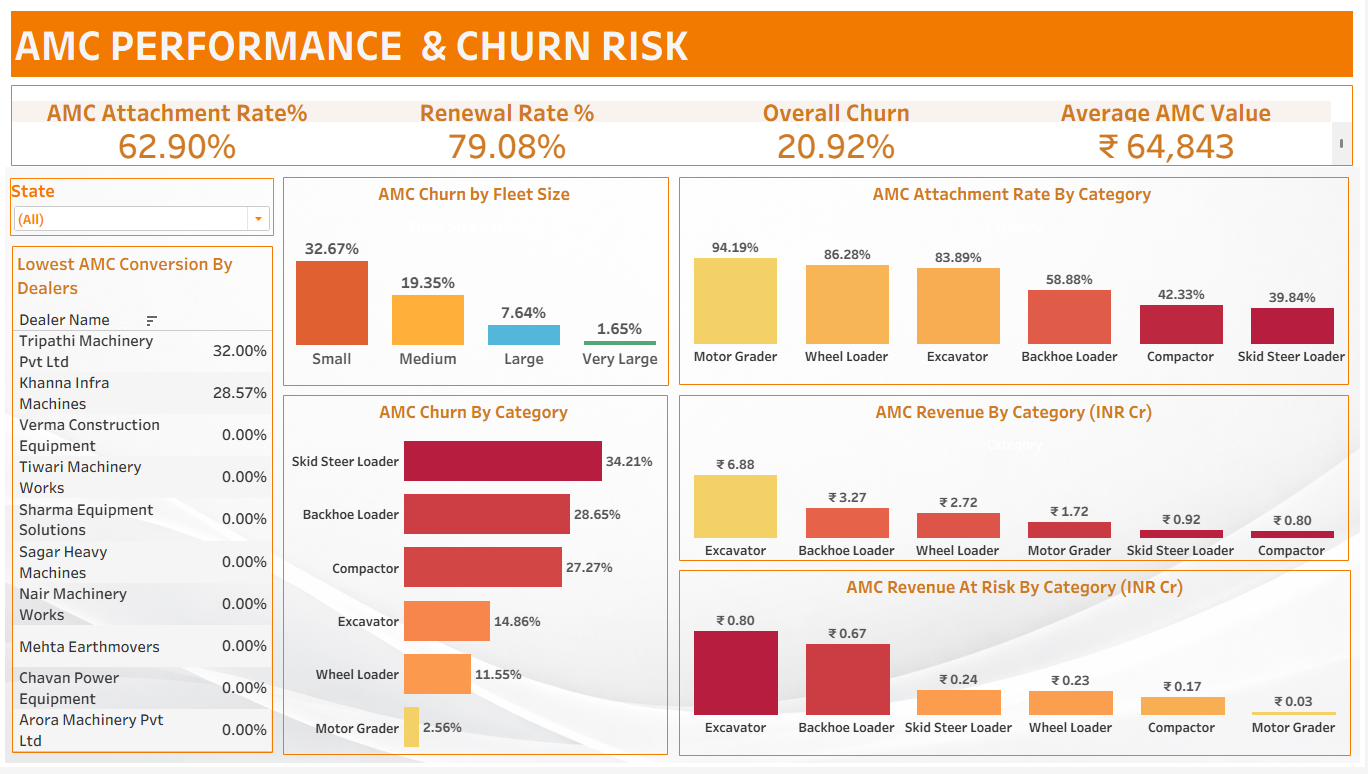

The dashboard page shown, as its layout file describes it:
{"tool":"tableau","page":{"name":"DASHBOARD 2","canvas":[1366,768],"ordinal":0},"visuals":[{"type":"text","box":[8,8,1350,74]},{"type":"image","param":"Image/ChatGPT Image Mar 21, 2026, 10_17_25 PM.jpg","box":[1283,17,64,56]},{"type":"worksheet","title":"KPIs 2","mark":"Automatic","box":[8,82,1350,89]},{"type":"image","param":"Image/white background.png","box":[6,168,1355,596]},{"type":"worksheet","title":"AMC Churn by Fleet Size","mark":"Automatic","rows":["Calculation_0198788526399491"],"cols":["fleet_size_category"],"box":[284,178,386,209]},{"type":"worksheet","title":"AMC Attachment Rate By Category","mark":"Bar","rows":["Calculation_0198788525764610"],"cols":["category"],"box":[680,178,670,208]},{"type":"filter","title":"AMC Attachment Rate By Category","param":"[federated.0mla3y500qfd4d14qhf7i0c152dx].[none:state (dealers):nk]","box":[11,179,264,58]},{"type":"worksheet","title":"Lowest AMC Conversion By Dealers","mark":"Automatic","rows":["dealer_name"],"box":[13,247,261,507]},{"type":"worksheet","title":"AMC Churn By Category","mark":"Bar","rows":["category"],"cols":["Calculation_0198788526399491"],"box":[284,396,385,360]},{"type":"worksheet","title":"AMC Revenue By Category","mark":"Automatic","rows":["Calculation_0198788551446533"],"cols":["category"],"box":[680,396,670,166]},{"type":"worksheet","title":"AMC Revenue At Risk By Category","mark":"Automatic","rows":["Calculation_0198788518055937"],"cols":["category"],"box":[680,571,672,186]}]}

Visuals, with their boxes in screenshot pixels (x1, y1, x2, y2), scaled from the page's 1366x768 canvas onto the 1368x774 screenshot:
text: <region>8, 8, 1360, 83</region>
image: <region>1285, 17, 1349, 74</region>
"KPIs 2" worksheet: <region>8, 83, 1360, 172</region>
image: <region>6, 169, 1363, 770</region>
"AMC Churn by Fleet Size" worksheet: <region>284, 179, 671, 390</region>
"AMC Attachment Rate By Category" worksheet (Bar marks): <region>681, 179, 1352, 389</region>
"AMC Attachment Rate By Category" filter: <region>11, 180, 275, 239</region>
"Lowest AMC Conversion By Dealers" worksheet: <region>13, 249, 274, 760</region>
"AMC Churn By Category" worksheet (Bar marks): <region>284, 399, 670, 762</region>
"AMC Revenue By Category" worksheet: <region>681, 399, 1352, 566</region>
"AMC Revenue At Risk By Category" worksheet: <region>681, 575, 1354, 763</region>
